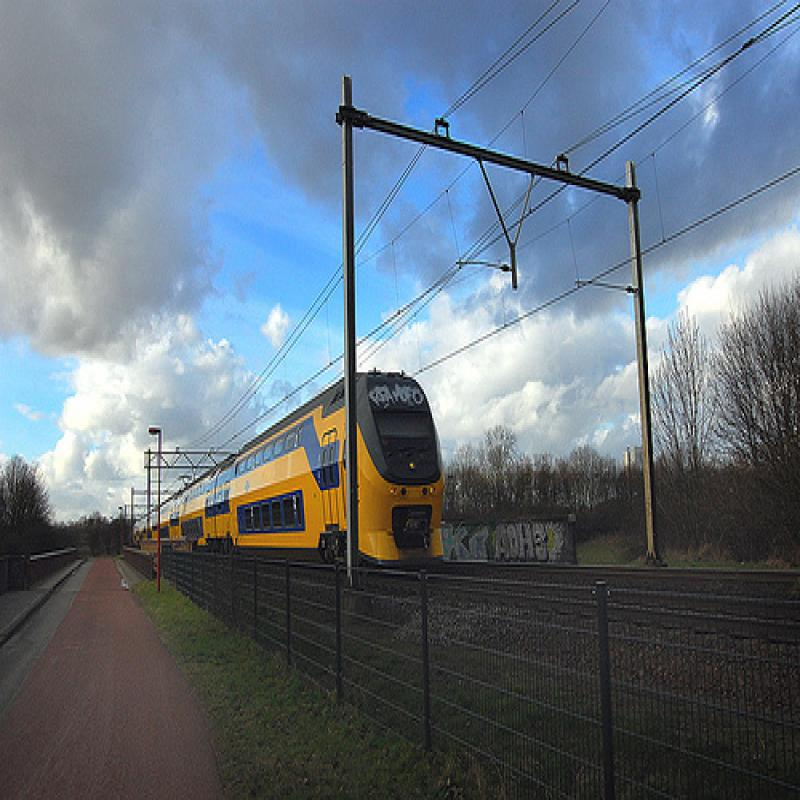train: (136, 374, 453, 564)
